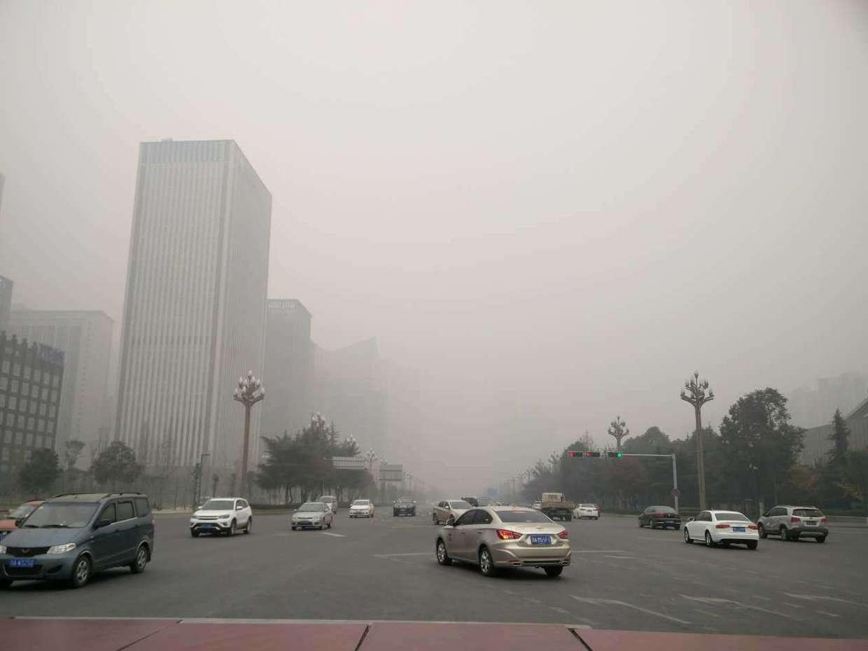bus: (536, 492, 574, 522), (460, 495, 488, 514)
car: (1, 492, 157, 588), (434, 506, 572, 577), (1, 499, 80, 550), (683, 510, 760, 551), (756, 504, 829, 543), (189, 497, 253, 537), (290, 501, 334, 531), (431, 499, 475, 526), (637, 505, 682, 531), (348, 498, 375, 518), (392, 495, 417, 516), (572, 503, 599, 521), (318, 495, 339, 515), (531, 501, 545, 513)
